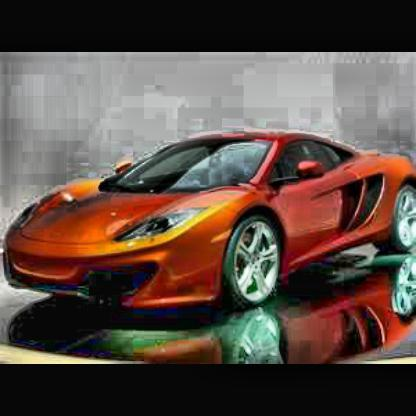McLaren MP4-12C Coupe 2012: (2, 133, 416, 311)
